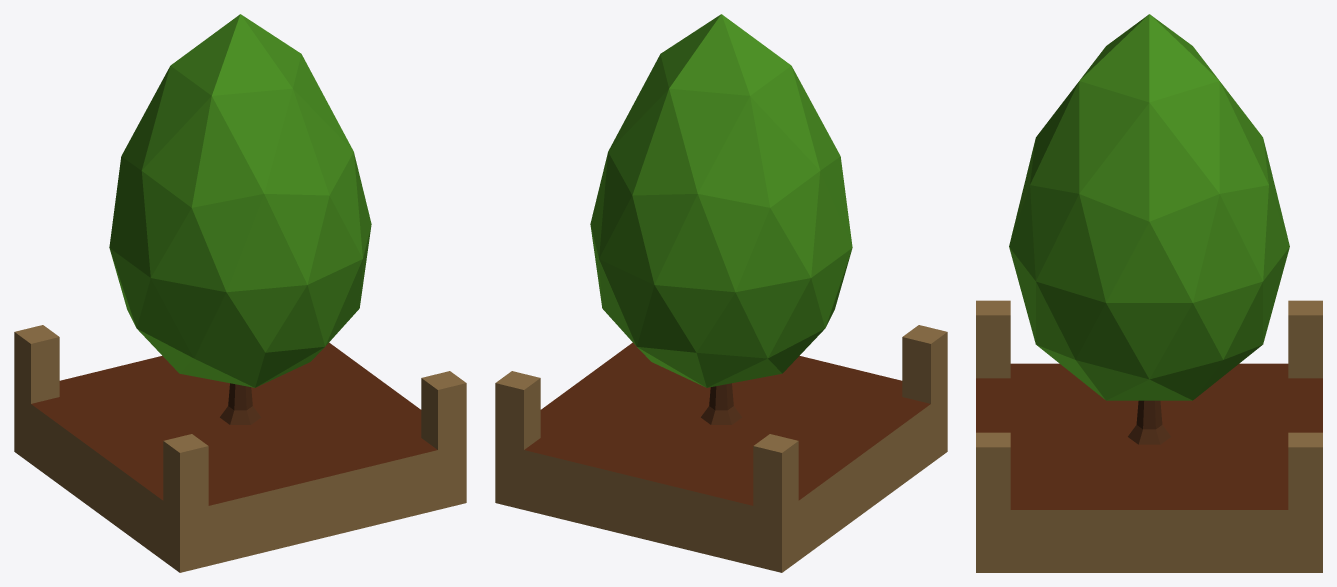
Rendered from Garden Bed Intersection.fbx.
3 renders of one model, left to right at view 1: azimuth 30°, elevation 25°; view 2: azimuth 150°, elevation 25°; view 3: azimuth 270°, elevation 25°, orthographic. The views are drawn at different scales.
Parts seen in each view (by area): view 1: Garden Bed Intersection; view 2: Garden Bed Intersection; view 3: Garden Bed Intersection.
Part boxes in pixels (x1,y1,x2,y2): Garden Bed Intersection: (14, 14, 466, 572); Garden Bed Intersection: (495, 14, 947, 572); Garden Bed Intersection: (976, 14, 1322, 572).
Size of the model in its own units: 100 by 155 by 100.
